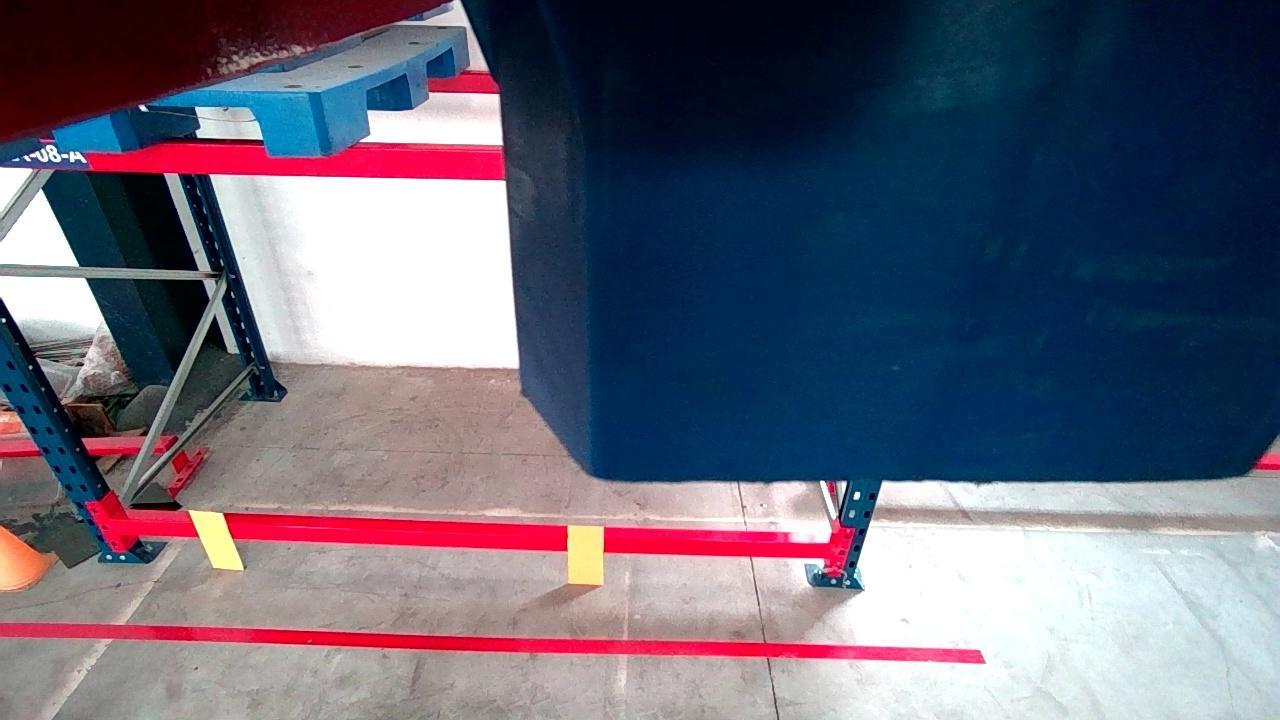h_rack: (111, 520, 829, 558), (16, 140, 503, 176)
orange_strip: (188, 510, 242, 569), (567, 526, 602, 585)
red_line: (1, 623, 986, 663)
